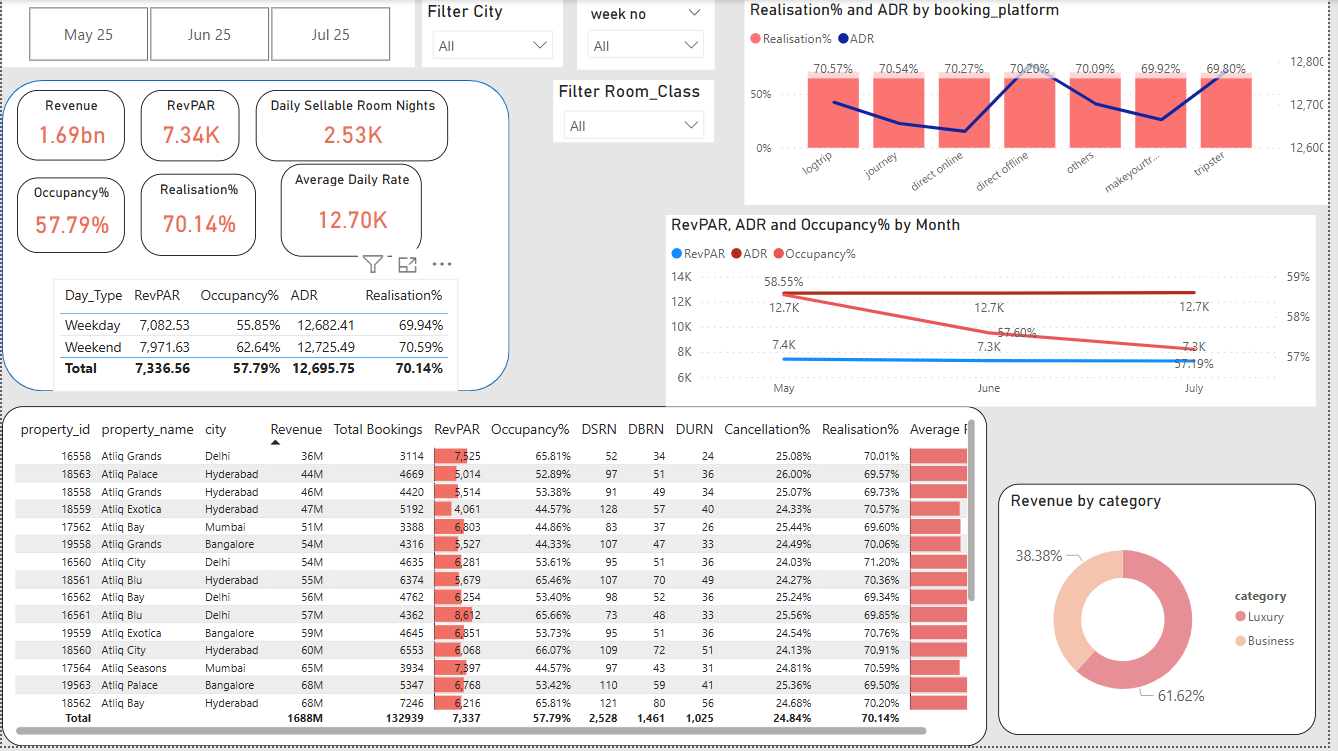

This screenshot's page, from the dashboard's own definition file:
{"tool":"powerbi","page":{"name":"Page 1","canvas":[1280,720],"ordinal":0},"visuals":[{"type":"shape","box":[0,77.2,489.6,300.3],"z":0,"group":"g1"},{"type":"tableEx","fields":{"Values":["dim_hotels.property_id","dim_hotels.property_name","dim_hotels.city","Key Measures Table (2).Revenue","Key Measures Table (2).Total Bookings","Key Measures Table (2).RevPAR","Key Measures Table (2).Occupancy%","Key Measures Table (2).DSRN","Key Measures Table (2).Daily Booked Room Nights (DBRN)","Key Measures Table (2).Daily Utilized Room Nights (DURN)","Key Measures Table (2).Cancellation%","Key Measures Table (2).Realisation%"]},"box":[0,392,950.4,328],"z":0},{"type":"slicer","title":"Filter City","fields":{"Values":["dim_hotels.city"]},"box":[405.2,0,136.3,65.1],"z":1000},{"type":"card","title":"RevPAR","fields":{"Values":["Key Measures Table (2).RevPAR"]},"box":[133.9,86.4,95.3,69],"z":2000,"group":"g1"},{"type":"slicer","title":"Filter Room_Class","fields":{"Values":["dim_rooms.room_class"]},"box":[531.9,77.2,155.6,60.3],"z":2000},{"type":"slicer","fields":{"Values":["dim_date.mmm yy"]},"box":[0,0,398.8,65],"z":3000},{"type":"donutChart","fields":{"Category":["dim_hotels.category"],"Y":["Key Measures Table (2).Revenue"]},"box":[961.2,466.7,306.3,242.4],"z":4000},{"type":"group","id":"g1","title":"Group 1","box":[0,77.2,489.6,300.3],"z":5000},{"type":"lineStackedColumnComboChart","fields":{"Category":["fact_bookings.booking_platform"],"Y":["Key Measures Table (2).Realisation%"],"Y2":["Key Measures Table (2).ADR"]},"box":[716.4,0,563.2,197.8],"z":6000},{"type":"card","title":"Revenue","fields":{"Values":["Key Measures Table (2).Revenue"]},"box":[14.5,86.4,103.7,67.7],"z":6000,"group":"g1"},{"type":"lineChart","fields":{"Category":["dim_date.mmm yy.Variation.Date Hierarchy.Month","dim_date.mmm yy.Variation.Date Hierarchy.Day"],"Y":["Key Measures Table (2).RevPAR","Key Measures Table (2).ADR"],"Y2":["Key Measures Table (2).Occupancy%"]},"box":[640.4,207.4,627.1,184.5],"z":7000},{"type":"card","title":"Daily Sellable Room Nights","fields":{"Values":["Key Measures Table (2).DSRN"]},"box":[244.8,86.4,185.7,69],"z":8000,"group":"g1"},{"type":"tableEx","fields":{"Values":["dim_date.Day_Type","Key Measures Table (2).RevPAR","Key Measures Table (2).Occupancy%","Key Measures Table (2).ADR","Key Measures Table (2).Realisation%"]},"box":[49.4,268.9,390.8,108.5],"z":8000},{"type":"slicer","fields":{"Values":["dim_date.week no"]},"box":[554.8,0,132.7,67.5],"z":8001},{"type":"card","title":"Occupancy%","fields":{"Values":["Key Measures Table (2).Occupancy%"]},"box":[14.5,171.5,103.7,72.8],"z":9000,"group":"g1"},{"type":"card","title":"Average Daily Rate","fields":{"Values":["Key Measures Table (2).ADR"]},"box":[268.9,157.5,136.3,89.5],"z":10000,"group":"g1"},{"type":"card","title":"Realisation%","fields":{"Values":["Key Measures Table (2).Realisation%"]},"box":[133.9,168.2,111,79.2],"z":11000,"group":"g1"}]}

Visuals, with their boxes in screenshot pixels (x1, y1, x2, y2), scaled from the page's 1280x720 canvas onto the 1338x751 screenshot:
shape: pyautogui.locateOnScreen(0, 81, 512, 394)
tableEx - dim_hotels.property_id x dim_hotels.property_name: pyautogui.locateOnScreen(0, 409, 993, 750)
"Filter City" slicer: pyautogui.locateOnScreen(424, 0, 566, 68)
"RevPAR" card: pyautogui.locateOnScreen(140, 90, 240, 162)
"Filter Room_Class" slicer: pyautogui.locateOnScreen(556, 81, 719, 143)
slicer - dim_date.mmm yy: pyautogui.locateOnScreen(0, 0, 417, 68)
donutChart - dim_hotels.category x Key Measures Table (2).Revenue: pyautogui.locateOnScreen(1005, 487, 1325, 740)
"Group 1" group: pyautogui.locateOnScreen(0, 81, 512, 394)
lineStackedColumnComboChart - fact_bookings.booking_platform x Key Measures Table (2).Realisation%: pyautogui.locateOnScreen(749, 0, 1337, 206)
"Revenue" card: pyautogui.locateOnScreen(15, 90, 124, 161)
lineChart - dim_date.mmm yy.Variation.Date Hierarchy.Month x dim_date.mmm yy.Variation.Date Hierarchy.Day: pyautogui.locateOnScreen(669, 216, 1325, 409)
"Daily Sellable Room Nights" card: pyautogui.locateOnScreen(256, 90, 450, 162)
tableEx - dim_date.Day_Type x Key Measures Table (2).RevPAR: pyautogui.locateOnScreen(52, 280, 460, 394)
slicer - dim_date.week no: pyautogui.locateOnScreen(580, 0, 719, 70)
"Occupancy%" card: pyautogui.locateOnScreen(15, 179, 124, 255)
"Average Daily Rate" card: pyautogui.locateOnScreen(281, 164, 424, 258)
"Realisation%" card: pyautogui.locateOnScreen(140, 175, 256, 258)
